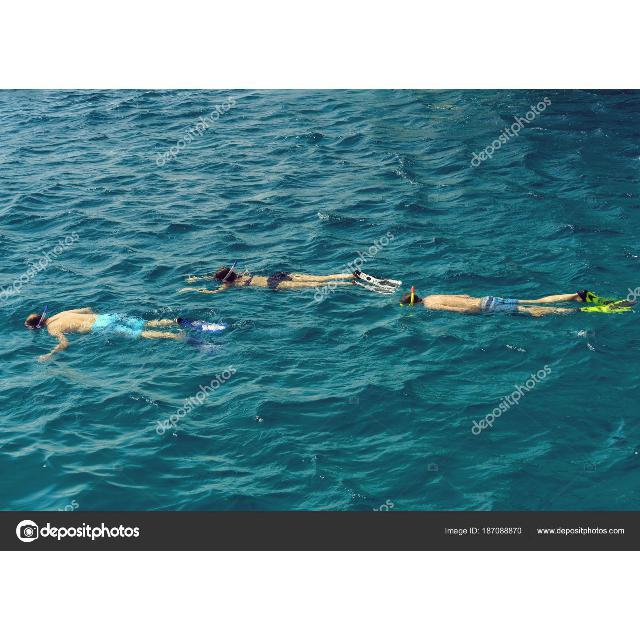human: (24, 297, 220, 355), (188, 260, 392, 296), (402, 282, 588, 315)
